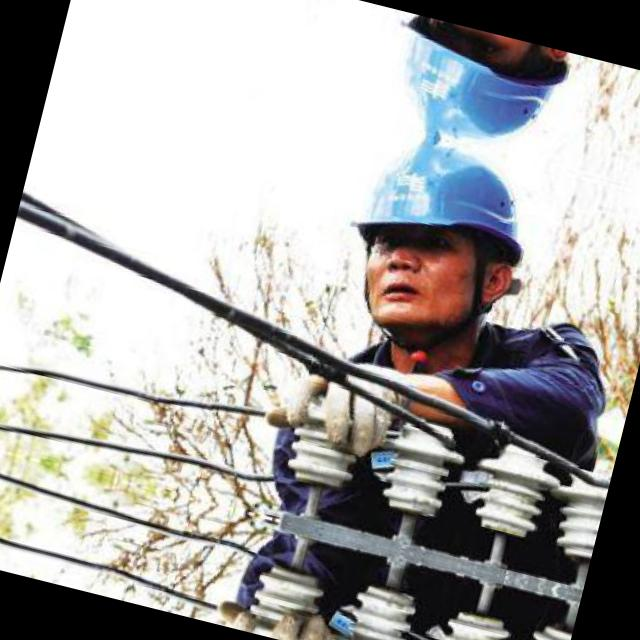helmet: (304, 117, 554, 368), (355, 5, 584, 166)
